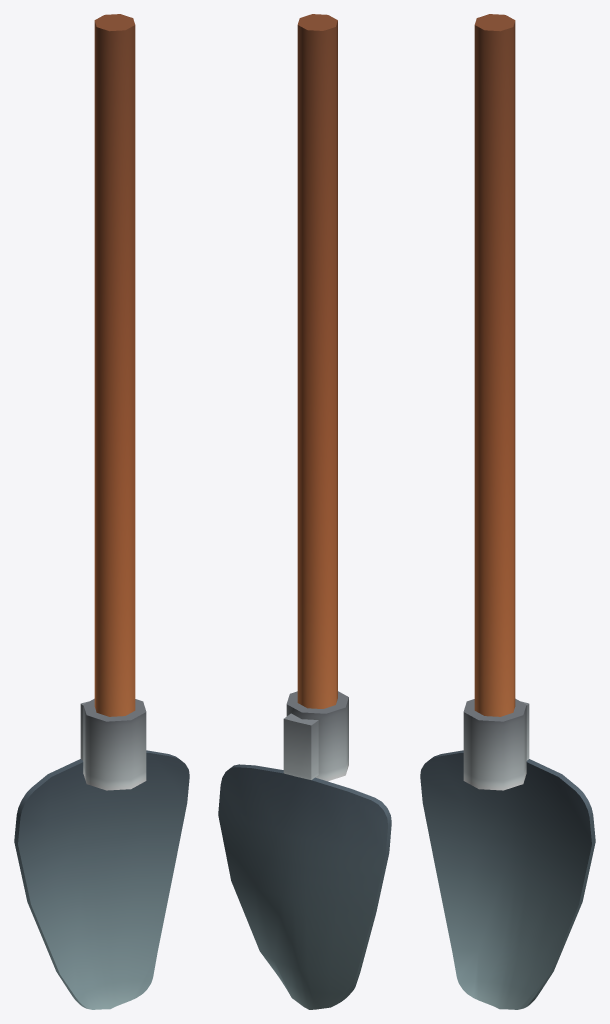
The model's file is Showel.fbx.
The picture shows the model from 3 angles, left to right: view 1: azimuth 30°, elevation 25°; view 2: azimuth 150°, elevation 25°; view 3: azimuth 330°, elevation 25°; orthographic projection.
Visible parts, largest first — view 1: Shovel; view 2: Shovel; view 3: Shovel.
Boxes of the visible parts, x1,y1,x2,y2 form: Shovel: (14, 14, 189, 1009); Shovel: (218, 14, 391, 1009); Shovel: (420, 14, 595, 1009).
Size of the model in its own units: 0.1376 by 0.7704 by 0.0577.
